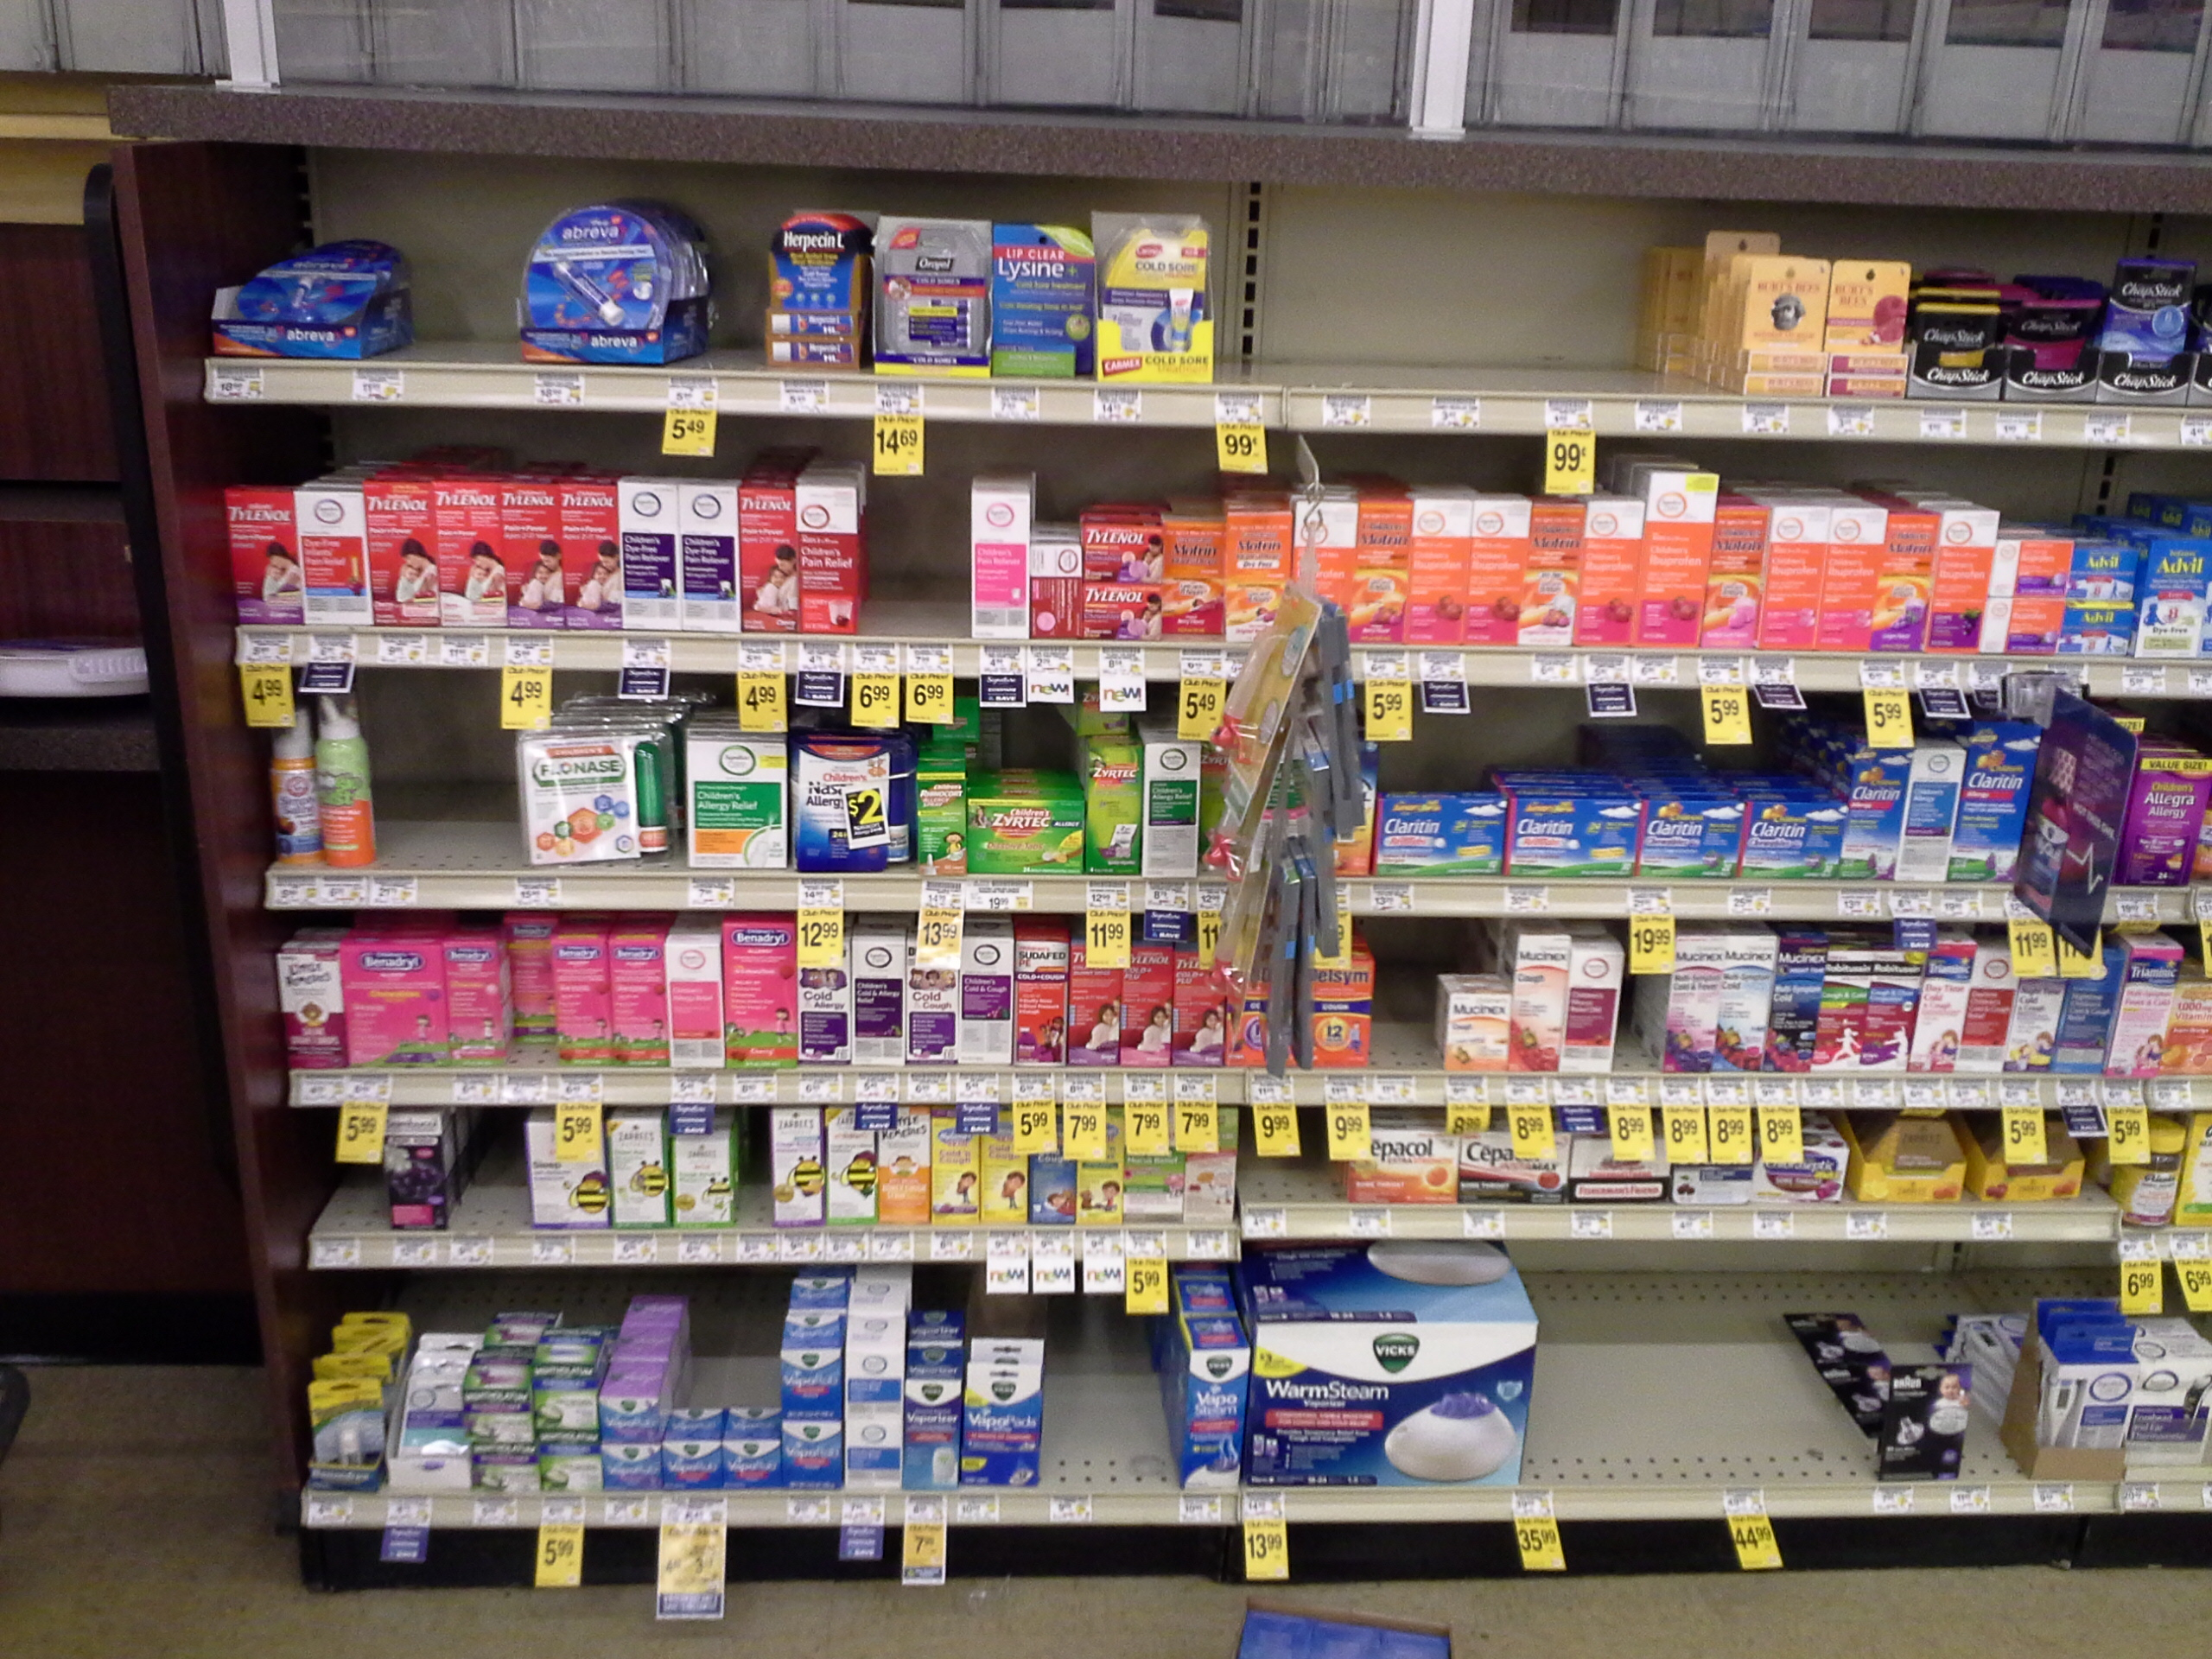Out-of-stock: (1538, 1248, 1778, 1481)
